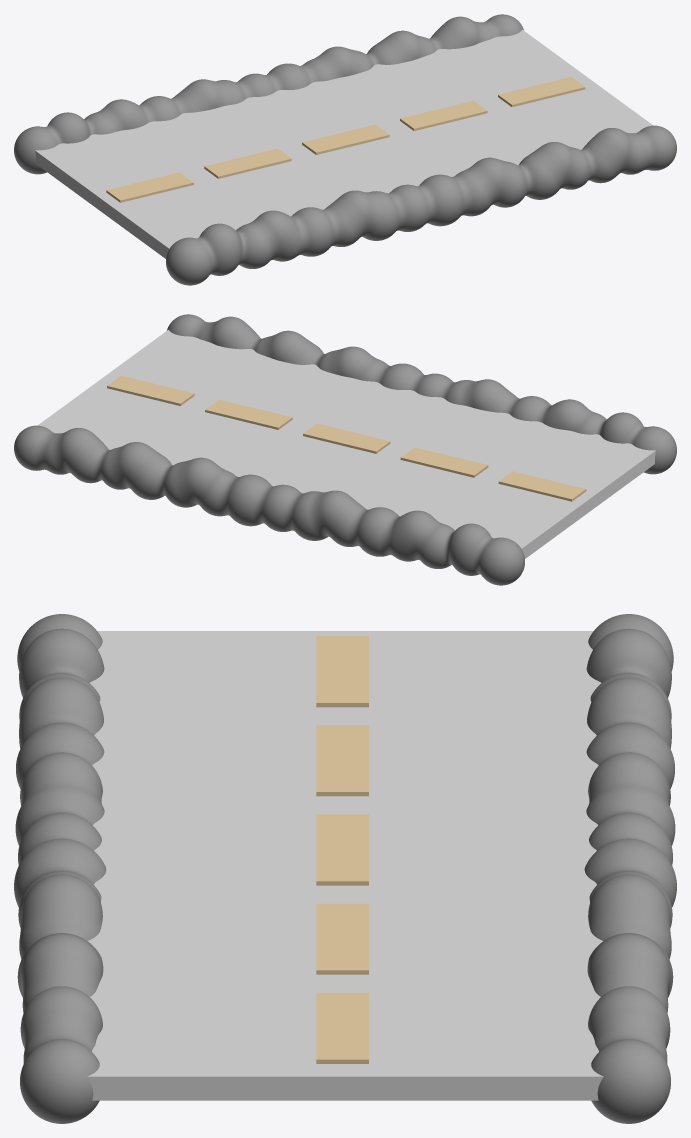
File: RoadStraight.fbx
3 views of the same model, one above another, from view 1: azimuth 30°, elevation 25°; view 2: azimuth 150°, elevation 25°; view 3: azimuth 270°, elevation 25° (orthographic). The views are drawn at different scales.
Visible parts, largest first — view 1: Plane, Mball, Plane.005, Plane.002, Plane.004, Plane.003, Plane.001; view 2: Plane, Mball, Plane.004, Plane.002, Plane.005, Plane.001, Plane.003; view 3: Plane, Mball, Plane.001, Plane.002, Plane.003, Plane.004, Plane.005.
Boxes of the visible parts, left/top/right/bottom form: Plane: left=35, top=30, right=652, bottom=258; Mball: left=14, top=14, right=676, bottom=285; Plane.005: left=106, top=172, right=193, bottom=202; Plane.002: left=400, top=100, right=487, bottom=130; Plane.004: left=204, top=148, right=291, bottom=178; Plane.003: left=302, top=124, right=389, bottom=154; Plane.001: left=498, top=77, right=585, bottom=107; Plane: left=38, top=330, right=655, bottom=558; Mball: left=14, top=314, right=676, bottom=585; Plane.004: left=400, top=447, right=488, bottom=477; Plane.002: left=205, top=399, right=292, bottom=429; Plane.005: left=498, top=471, right=586, bottom=501; Plane.001: left=107, top=375, right=194, bottom=405; Plane.003: left=303, top=423, right=390, bottom=453; Plane: left=87, top=631, right=603, bottom=1100; Mball: left=14, top=614, right=676, bottom=1123; Plane.001: left=316, top=992, right=368, bottom=1063; Plane.002: left=316, top=903, right=368, bottom=974; Plane.003: left=316, top=814, right=368, bottom=885; Plane.004: left=316, top=725, right=368, bottom=796; Plane.005: left=316, top=636, right=368, bottom=707.
Size of the model in its own units: 825 by 81.15 by 503.
